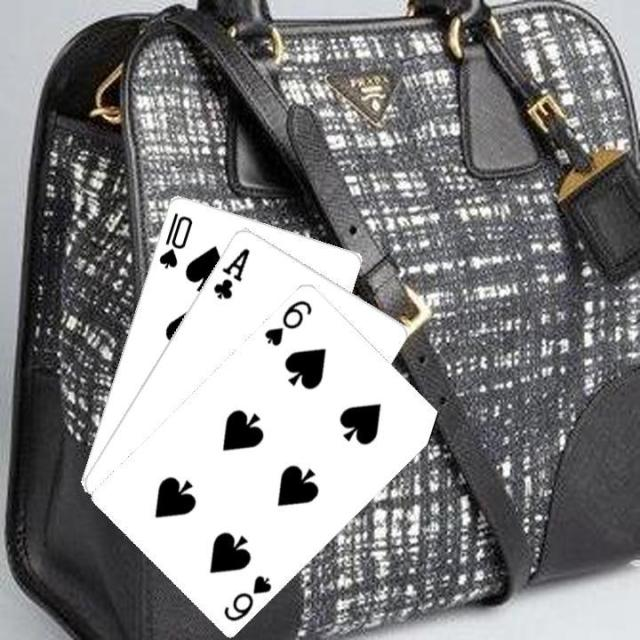10S: (154, 208, 194, 270)
6S: (260, 295, 314, 348), (220, 571, 274, 623)
AC: (209, 243, 252, 300)
